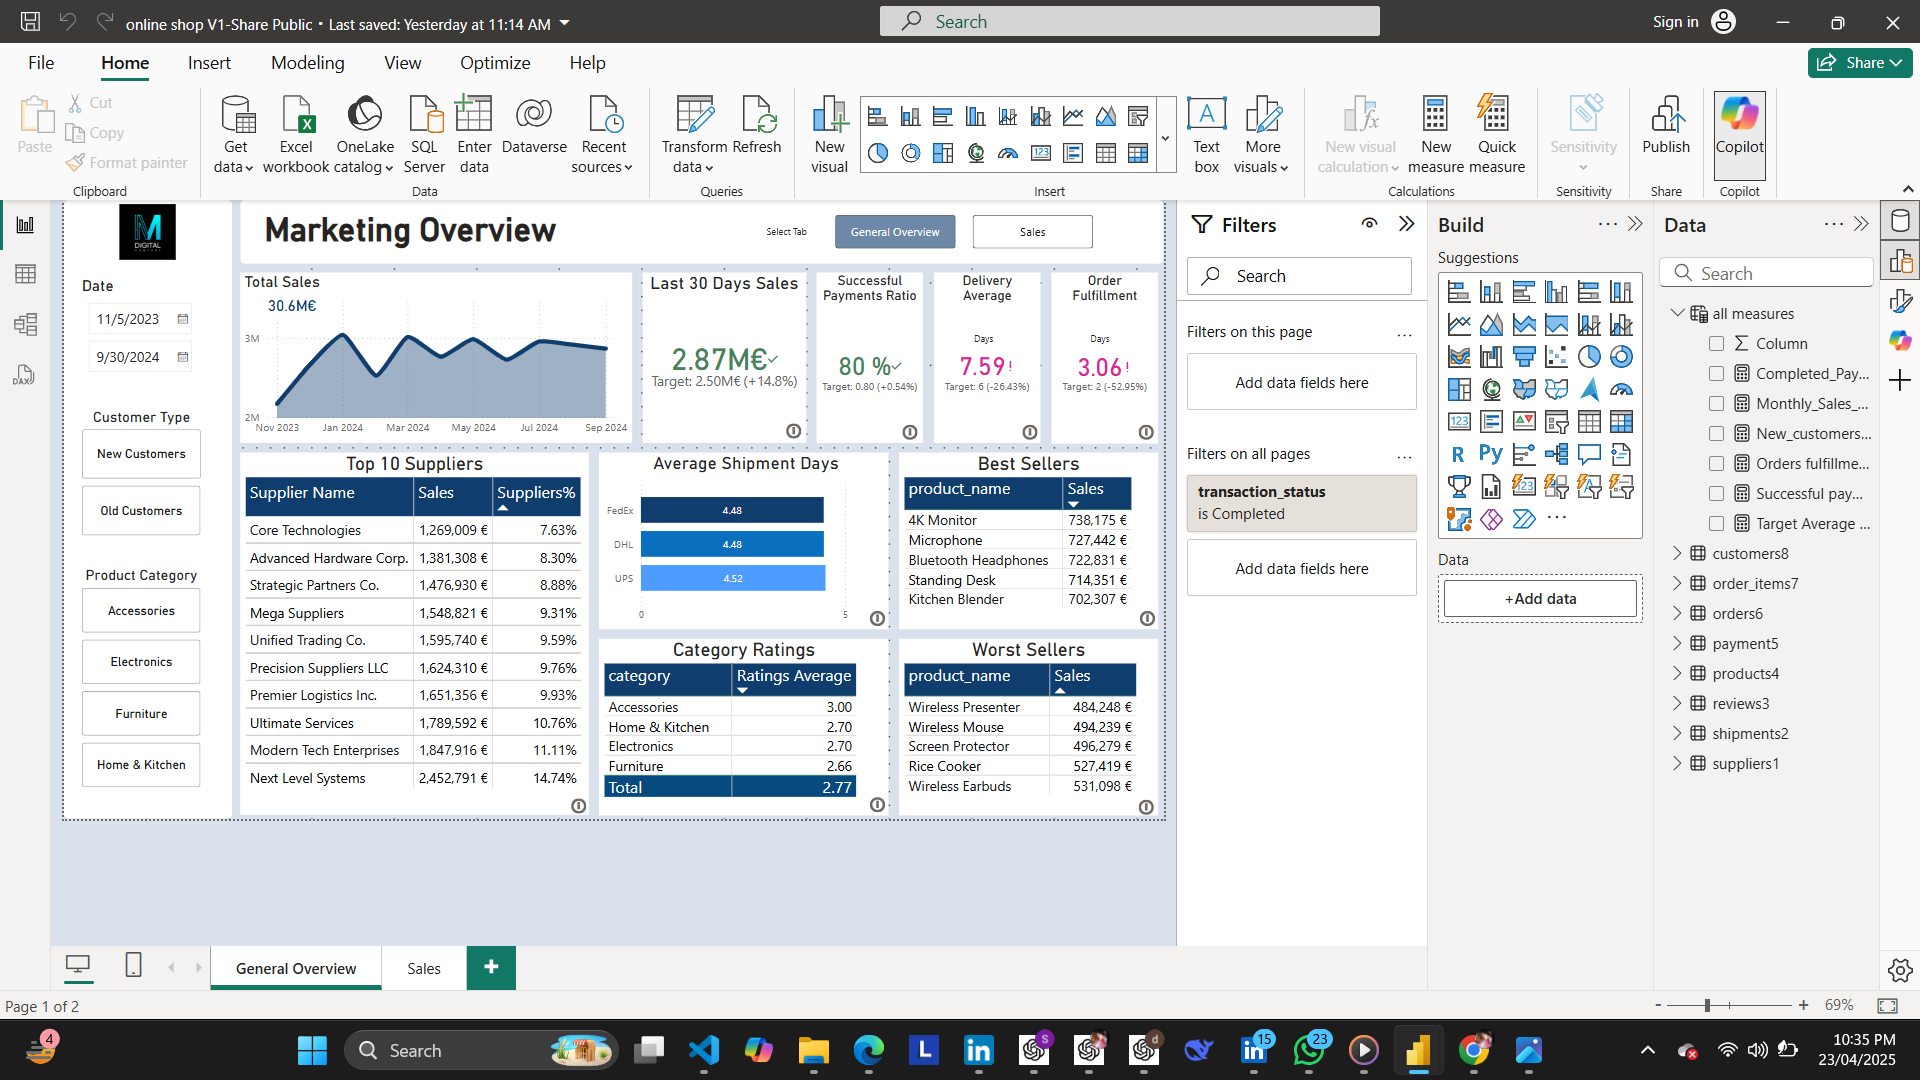

This screenshot's page, from the dashboard's own definition file:
{"tool":"powerbi","page":{"name":"General Overview","canvas":[1280,720],"ordinal":0},"visuals":[{"type":"shape","box":[205.7,0,1074.3,74.3],"z":0},{"type":"shape","box":[0,0,195.7,720],"z":1000},{"type":"slicer","title":"Date","fields":{"Values":["orders6.order_date"]},"box":[15.7,88.6,148.6,124.3],"z":2000},{"type":"textbox","box":[228.6,7.1,361.4,58.6],"z":3000},{"type":"image","box":[60,0,75.7,74.3],"z":4000},{"type":"stackedAreaChart","title":"Total Sales","fields":{"Y":["orders6.TotalSales"],"Category":["orders6.order_date.Variation.Date Hierarchy.Year","orders6.order_date.Variation.Date Hierarchy.Month"]},"box":[205.7,84.3,455.7,198.6],"z":5000},{"type":"advancedSlicerVisual","title":"Customer Type","fields":{"Values":["orders6.Customer_Type"]},"box":[15.7,237.1,148.6,158.6],"z":6000},{"type":"kpi","title":"Last 30 Days Sales","fields":{"Indicator":["orders6.Last30_D_Sales"],"TrendLine":["orders6.YearMonth"],"Goal":["all measures.Monthly_Sales_Goal"]},"box":[673.8,84.3,190,198.6],"z":7000},{"type":"card","fields":{"Values":["orders6.TotalSales"]},"box":[231,108.5,68.2,29.2],"z":8000},{"type":"tableEx","title":"Best Sellers","fields":{"Values":["products4.product_name","order_items7.Supplier_Sales"]},"box":[971.4,294.3,301.4,205.7],"z":9000},{"type":"kpi","title":"Delivery Average","fields":{"Indicator":["Avg(shipments2.Delivery_Time_Days)"],"TrendLine":["orders6.YearMonth"],"Goal":["all measures.Target Average Delivery Days"]},"box":[1012.6,84.2,124.2,198.3],"z":10000,"group":"g1"},{"type":"tableEx","title":"Worst Sellers","fields":{"Values":["products4.product_name","order_items7.Supplier_Sales"]},"box":[971.4,510,301.4,205.7],"z":10000},{"type":"kpi","title":"Order Fulfillment","fields":{"Indicator":["Avg(shipments2.Order_Fulfilment_Days)"],"TrendLine":["orders6.YearMonth"],"Goal":["all measures.Orders fulfillment target"]},"box":[1149.2,84.2,124.2,199.2],"z":11000,"group":"g2"},{"type":"advancedSlicerVisual","title":"Product Category","fields":{"Values":["products4.category"]},"box":[15.7,421.4,148.6,270],"z":11000},{"type":"textbox","box":[817.2,25.8,59.1,22.2],"z":12000},{"type":"textbox","box":[1194.3,151.5,32.9,21.4],"z":12003,"group":"g2"},{"type":"textbox","box":[1058.4,151.7,33.3,21.7],"z":12003,"group":"g1"},{"type":"tableEx","title":"Top 10 Suppliers","fields":{"Values":["suppliers1.supplier_name","order_items7.Supplier_Sales","suppliers1.Supplier_Sales_Share1"]},"box":[205.7,294.3,405.7,421.4],"z":13000},{"type":"kpi","title":"Successful Payments Ratio","fields":{"Indicator":["all measures.Completed_Payments_Ratio"],"TrendLine":["orders6.YearMonth"],"Goal":["all measures.Successful payment ration goal"]},"box":[876.1,84.2,124.2,198.3],"z":14000},{"type":"barChart","title":"Average Shipment Days","fields":{"Y":["Avg(shipments2.Shipment_Time_Days)"],"Category":["shipments2.carrier"],"Series":["shipments2.carrier"]},"box":[622.9,294.3,337.1,205.7],"z":15000},{"type":"group","id":"g1","title":"Group 1","box":[1012.6,84.2,124.2,198.3],"z":16000},{"type":"tableEx","title":"Category Ratings","fields":{"Values":["products4.category","Avg(reviews3.rating)"]},"box":[622.9,510,337.1,205.7],"z":17000},{"type":"group","id":"g2","title":"Group 2","box":[1149.2,84.2,124.2,199.2],"z":18000},{"type":"pageNavigator","box":[897.2,17.2,301.5,39.4],"z":19000},{"type":"actionButton","box":[836.9,256,25.8,25.8],"z":20000},{"type":"actionButton","box":[971.1,257.2,29.5,25.8],"z":21000},{"type":"actionButton","box":[1111.4,257.2,25.8,25.8],"z":22000},{"type":"actionButton","box":[1246.8,257.2,25.8,25.8],"z":23000},{"type":"actionButton","box":[1248,473.8,25.8,25.8],"z":24000},{"type":"actionButton","box":[1246.8,694.2,25.8,25.8],"z":25000},{"type":"actionButton","box":[934.2,690.5,25.8,25.8],"z":26000},{"type":"actionButton","box":[934.2,473.8,25.8,25.8],"z":27000},{"type":"actionButton","box":[585.8,691.7,25.8,25.8],"z":28000}]}

Visuals, with their boxes on the page's 1280x720 design canvas (x1, y1, x2, y2). These are canvas units, not pixel positions in the 1920x1080 screenshot, which may show the page scaled, cropped or inside an application window:
shape: select_region(206, 0, 1280, 74)
shape: select_region(0, 0, 196, 720)
"Date" slicer: select_region(16, 89, 164, 213)
textbox: select_region(229, 7, 590, 66)
image: select_region(60, 0, 136, 74)
"Total Sales" stackedAreaChart: select_region(206, 84, 661, 283)
"Customer Type" advancedSlicerVisual: select_region(16, 237, 164, 396)
"Last 30 Days Sales" kpi: select_region(674, 84, 864, 283)
card - orders6.TotalSales: select_region(231, 108, 299, 138)
"Best Sellers" tableEx: select_region(971, 294, 1273, 500)
"Delivery Average" kpi: select_region(1013, 84, 1137, 282)
"Worst Sellers" tableEx: select_region(971, 510, 1273, 716)
"Order Fulfillment" kpi: select_region(1149, 84, 1273, 283)
"Product Category" advancedSlicerVisual: select_region(16, 421, 164, 691)
textbox: select_region(817, 26, 876, 48)
textbox: select_region(1194, 152, 1227, 173)
textbox: select_region(1058, 152, 1092, 173)
"Top 10 Suppliers" tableEx: select_region(206, 294, 611, 716)
"Successful Payments Ratio" kpi: select_region(876, 84, 1000, 282)
"Average Shipment Days" barChart: select_region(623, 294, 960, 500)
"Group 1" group: select_region(1013, 84, 1137, 282)
"Category Ratings" tableEx: select_region(623, 510, 960, 716)
"Group 2" group: select_region(1149, 84, 1273, 283)
pageNavigator: select_region(897, 17, 1199, 57)
actionButton: select_region(837, 256, 863, 282)
actionButton: select_region(971, 257, 1001, 283)
actionButton: select_region(1111, 257, 1137, 283)
actionButton: select_region(1247, 257, 1273, 283)
actionButton: select_region(1248, 474, 1274, 500)
actionButton: select_region(1247, 694, 1273, 720)
actionButton: select_region(934, 690, 960, 716)
actionButton: select_region(934, 474, 960, 500)
actionButton: select_region(586, 692, 612, 718)
